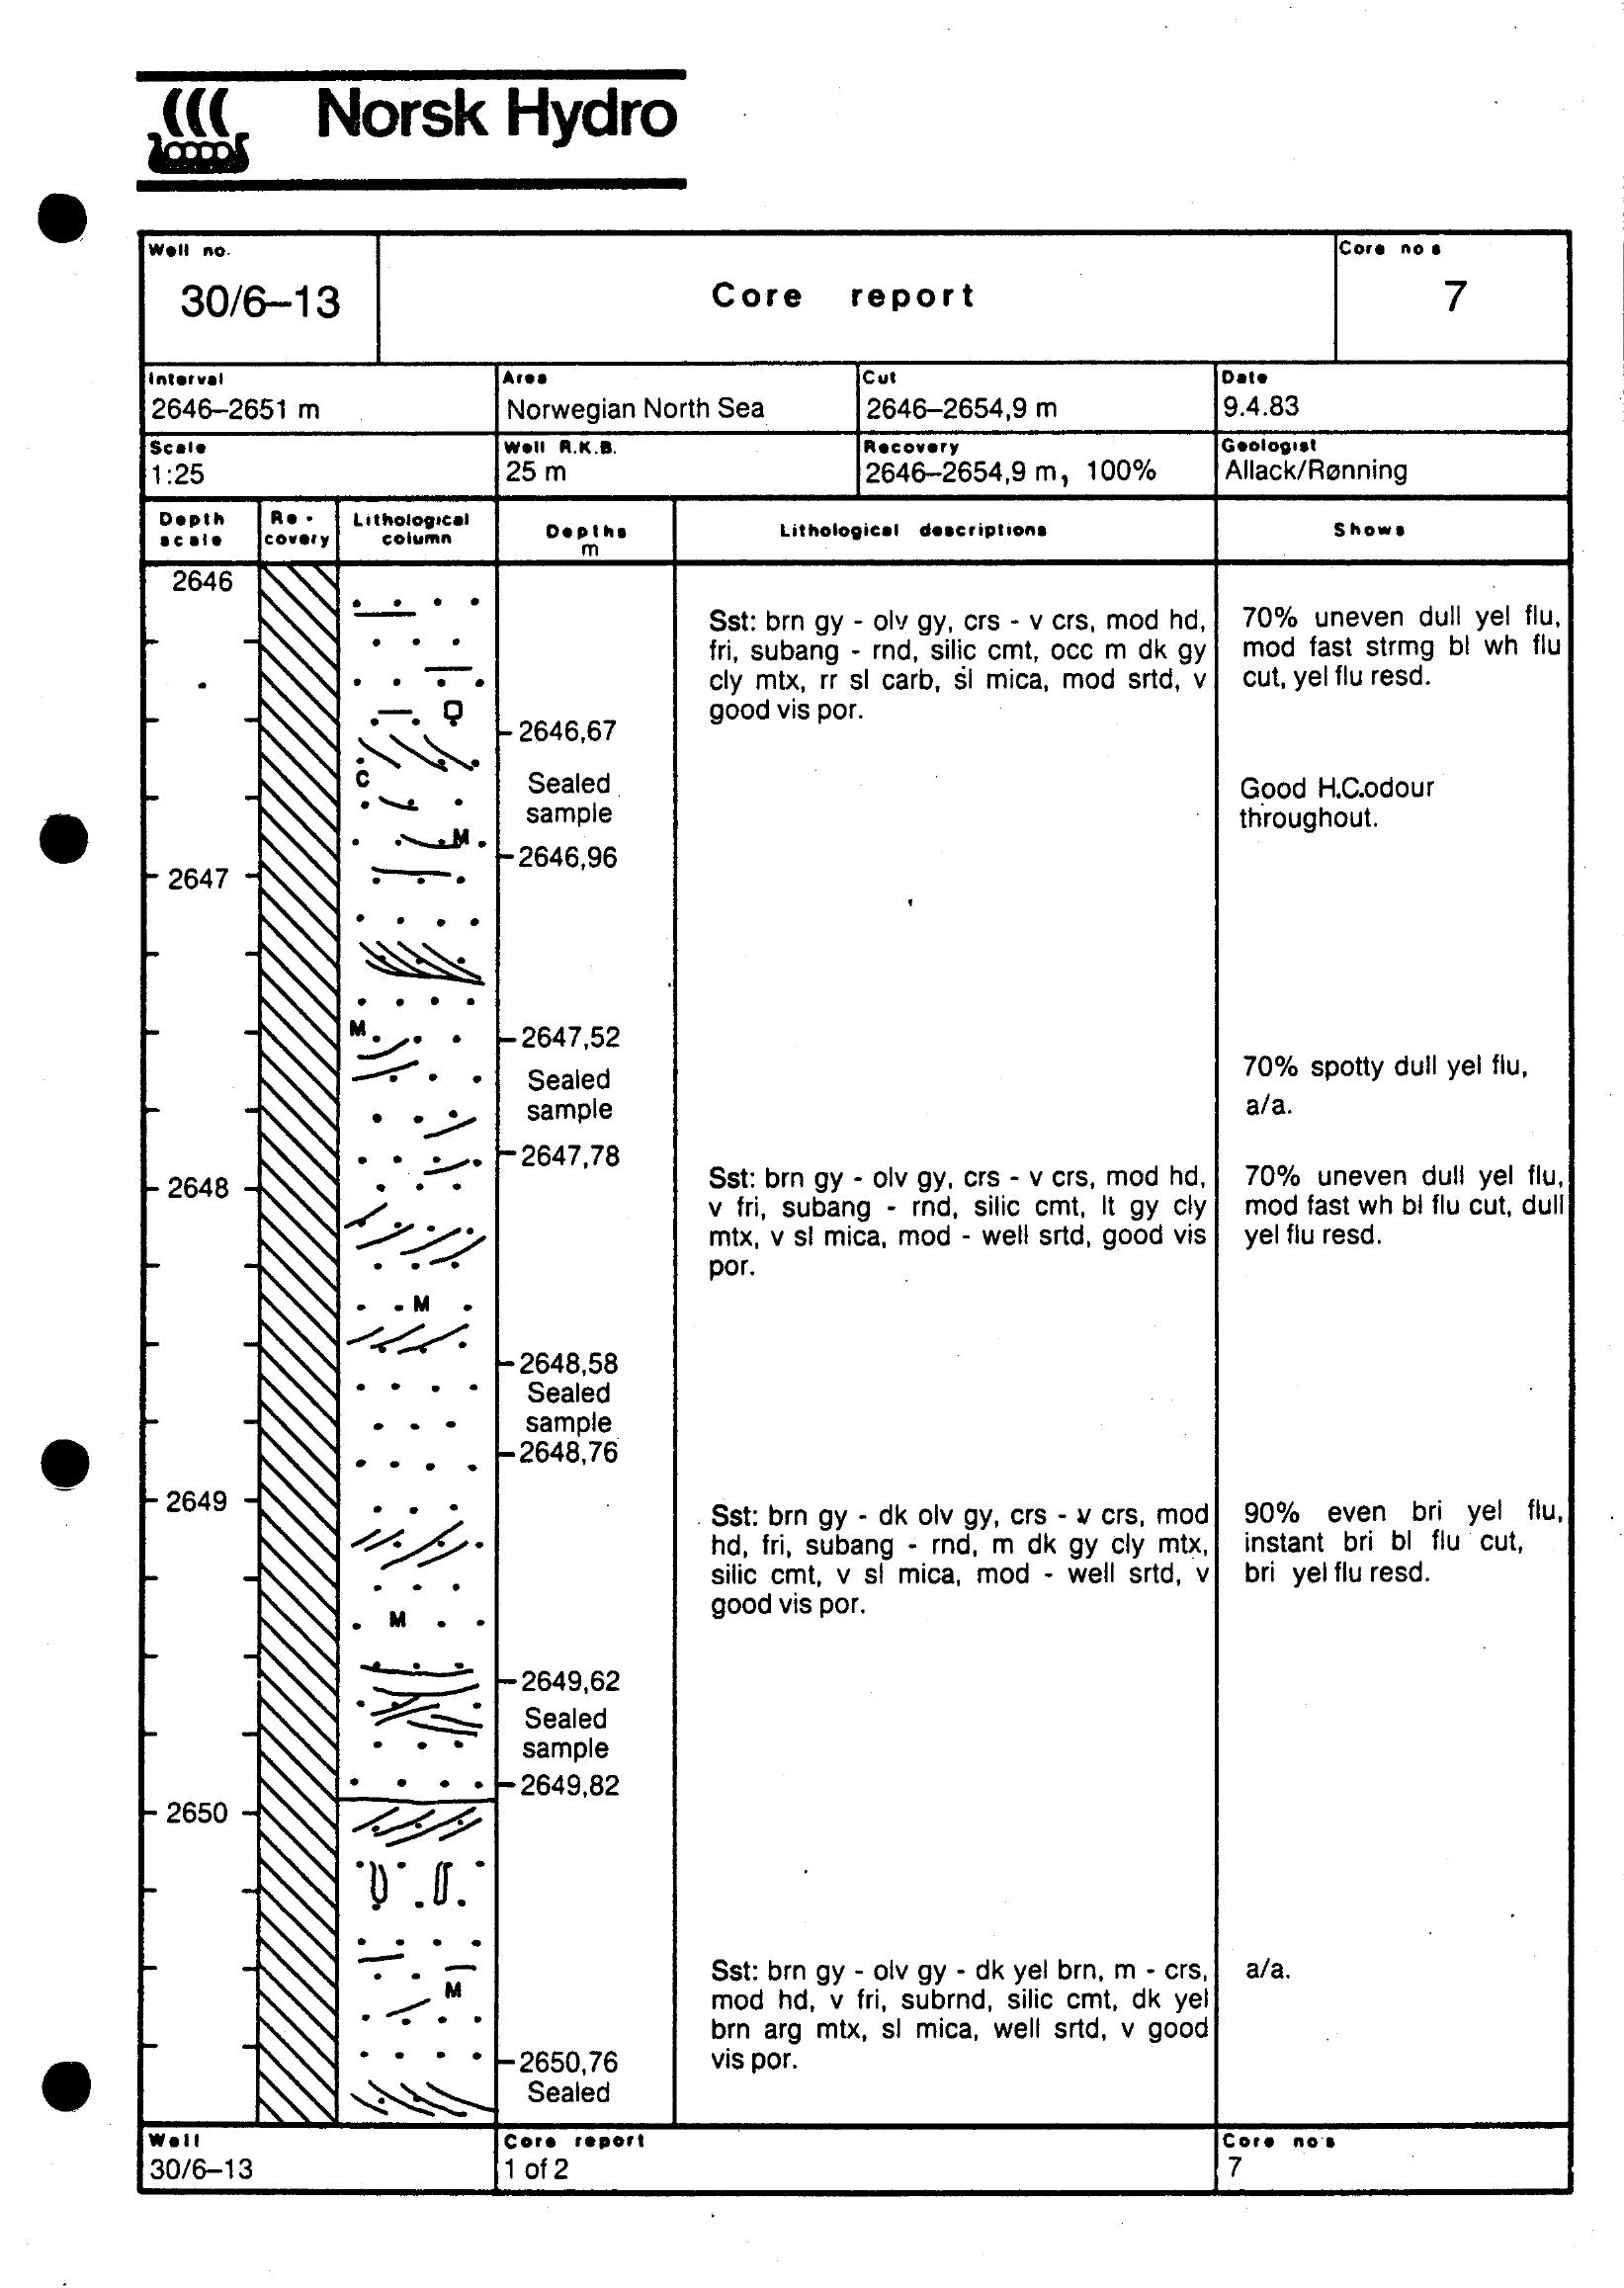graph: (114, 213, 1624, 2228)
undefined: (98, 44, 726, 207)
